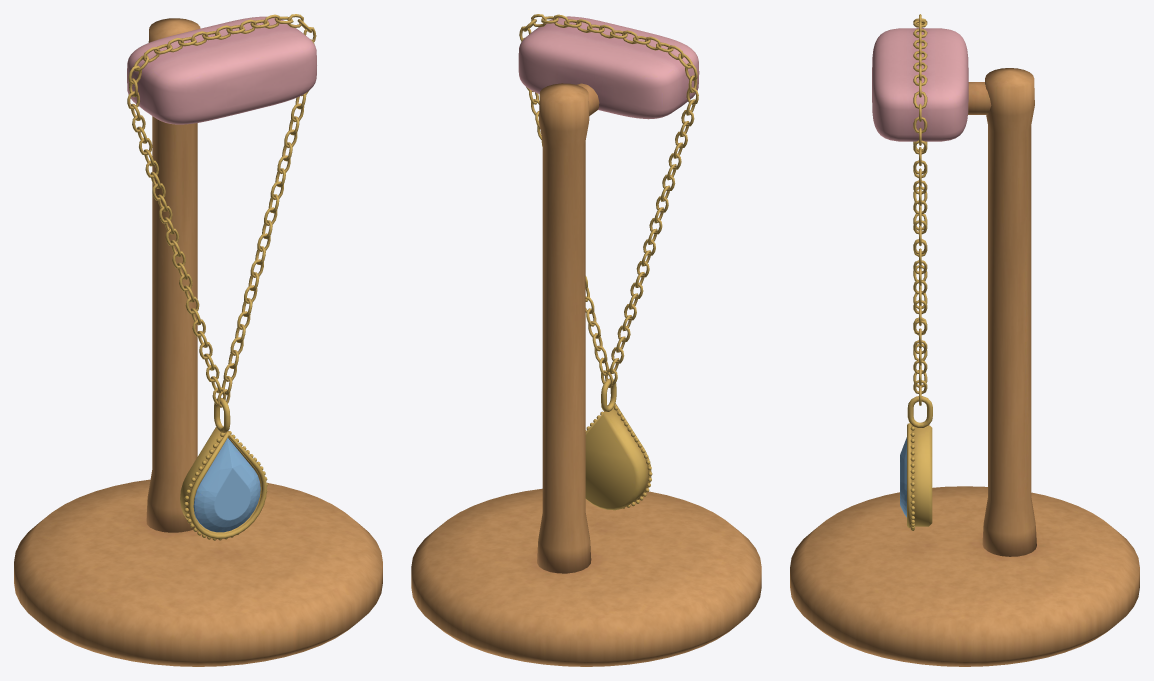
Rendered from pendant.glb.
3 views of the same model, side by side, from view 1: azimuth 30°, elevation 25°; view 2: azimuth 150°, elevation 25°; view 3: azimuth 270°, elevation 25° (orthographic). The views are drawn at different scales.
Visible parts, largest first — view 1: pendant_body; view 2: pendant_body; view 3: pendant_body.
Boxes of the visible parts, bbox=[...] form: pendant_body: bbox=[14, 14, 382, 666]; pendant_body: bbox=[411, 14, 761, 666]; pendant_body: bbox=[790, 14, 1139, 666].
Bounding box in the file's own units: 0.094 × 0.1644 × 0.094.
Materials: 1 (1 with a texture image).
